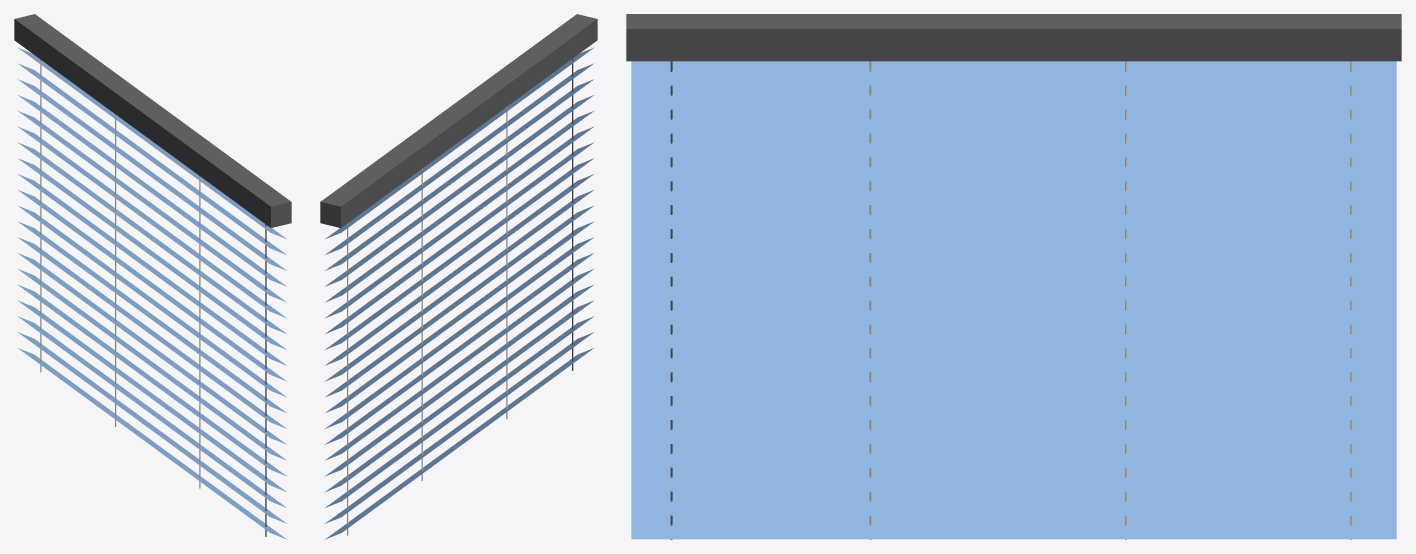
Rendered from window.fbx.
The picture shows the model from 3 angles, left to right: view 1: azimuth 30°, elevation 25°; view 2: azimuth 150°, elevation 25°; view 3: azimuth 270°, elevation 25°; orthographic projection. The views are drawn at different scales.
Visible parts, largest first — view 1: Cylinder.003; view 2: Cylinder.003; view 3: Cylinder.003.
Boxes of the visible parts, bbox=[...] form: Cylinder.003: bbox=[14, 14, 291, 539]; Cylinder.003: bbox=[320, 14, 597, 539]; Cylinder.003: bbox=[626, 14, 1401, 539].
Size of the model in its own units: 10.89 by 175 by 237.
